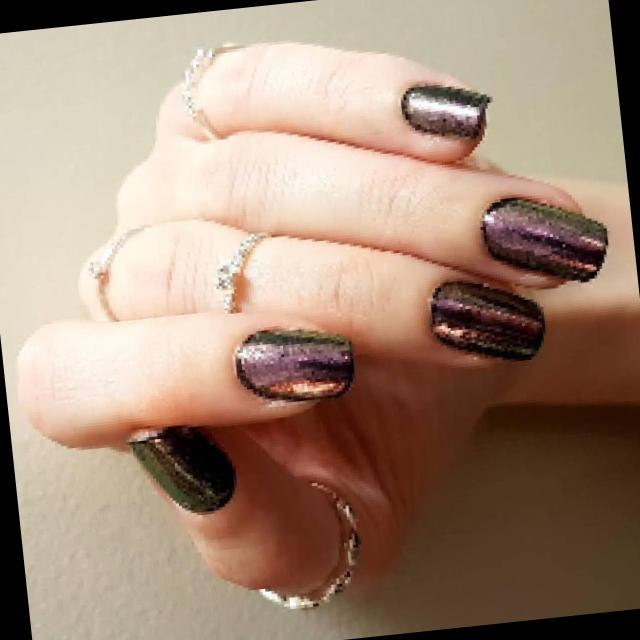Nail: (481, 197, 607, 280), (128, 425, 234, 512), (430, 280, 544, 359), (235, 330, 352, 400), (400, 84, 489, 136)
